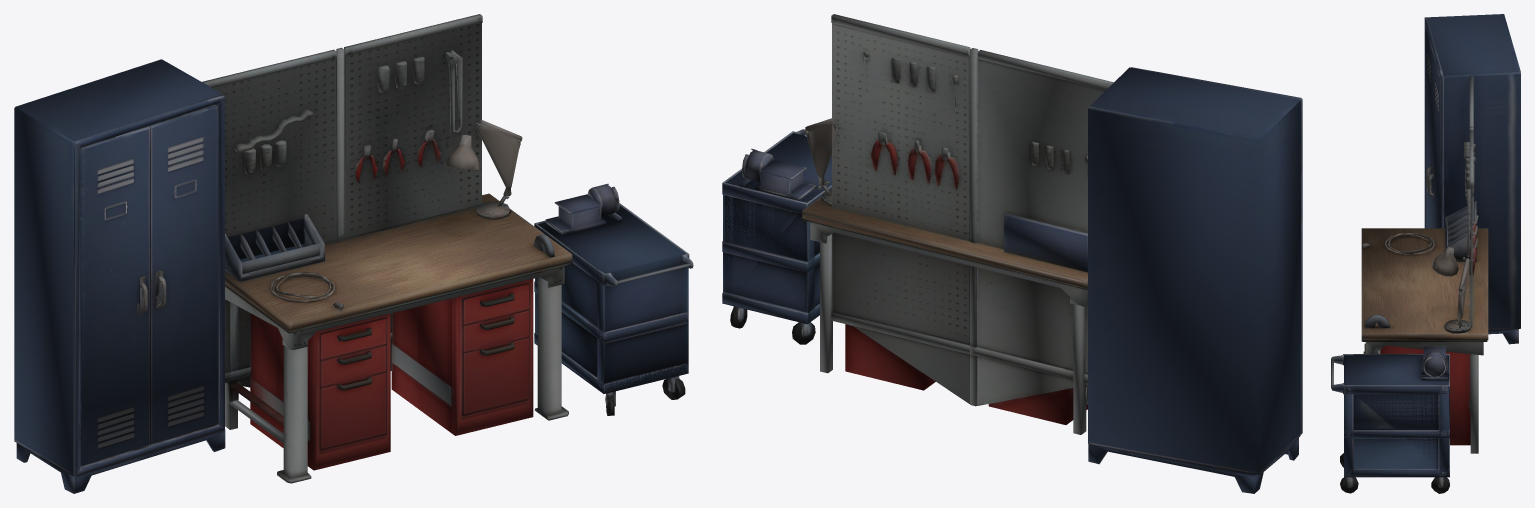
The model's file is estacao_manutencao.glb.
The picture shows the model from 3 angles, left to right: view 1: azimuth 30°, elevation 25°; view 2: azimuth 150°, elevation 25°; view 3: azimuth 270°, elevation 25°; orthographic projection. The views are drawn at different scales.
Visible parts, largest first — view 1: Estação de manutenção do hangar; view 2: Estação de manutenção do hangar; view 3: Estação de manutenção do hangar.
Boxes of the visible parts, left/top/right/bottom form: Estação de manutenção do hangar: left=14, top=14, right=693, bottom=493; Estação de manutenção do hangar: left=722, top=14, right=1302, bottom=493; Estação de manutenção do hangar: left=1331, top=14, right=1520, bottom=493.
Size of the model in its own units: 0.998 by 0.5957 by 0.377.
Materials: 1 (1 with a texture image).
